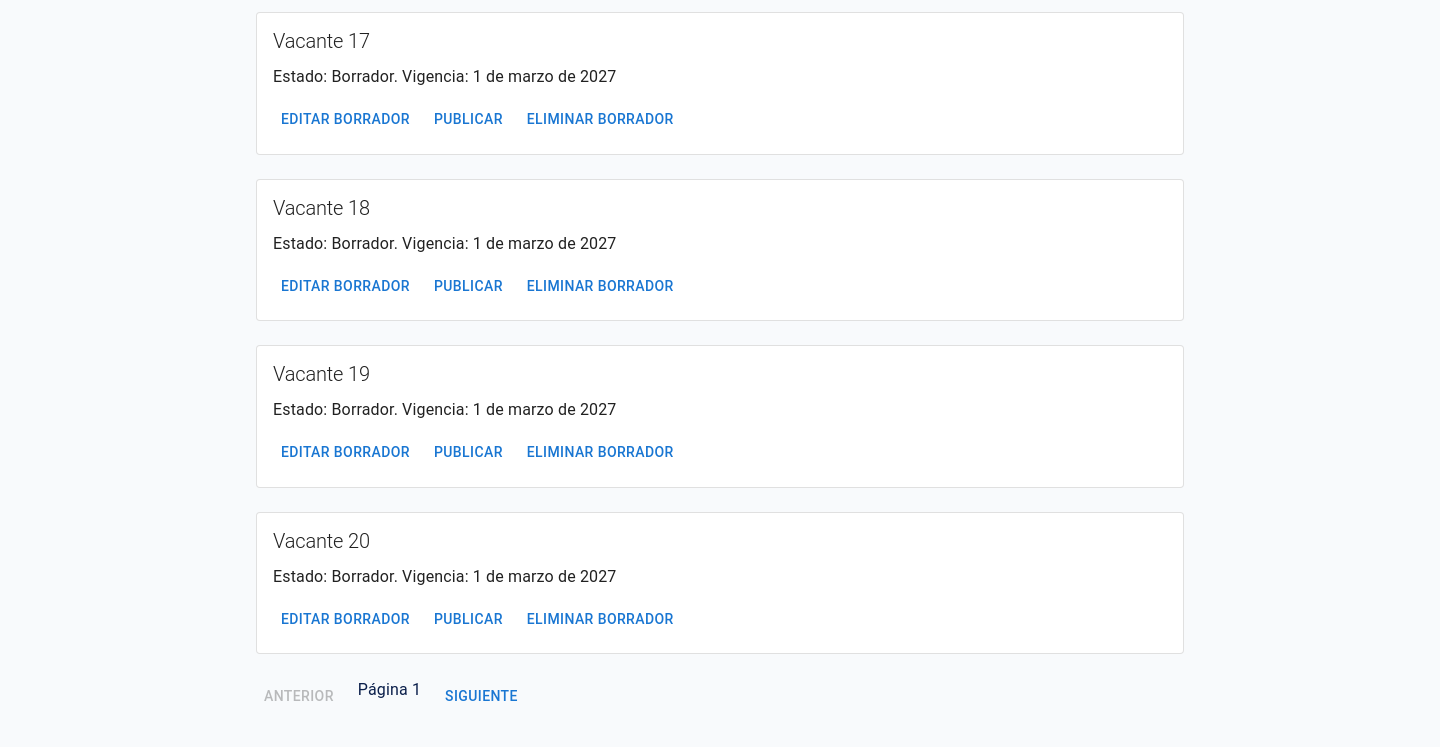
Scenario: MisVacantes › eliminar en una página que sigue teniendo vacantes se queda en ella
(page scrolled)
Click the button "Siguiente".
click(481, 696)  # box [437,678,526,715]
(page scrolled)
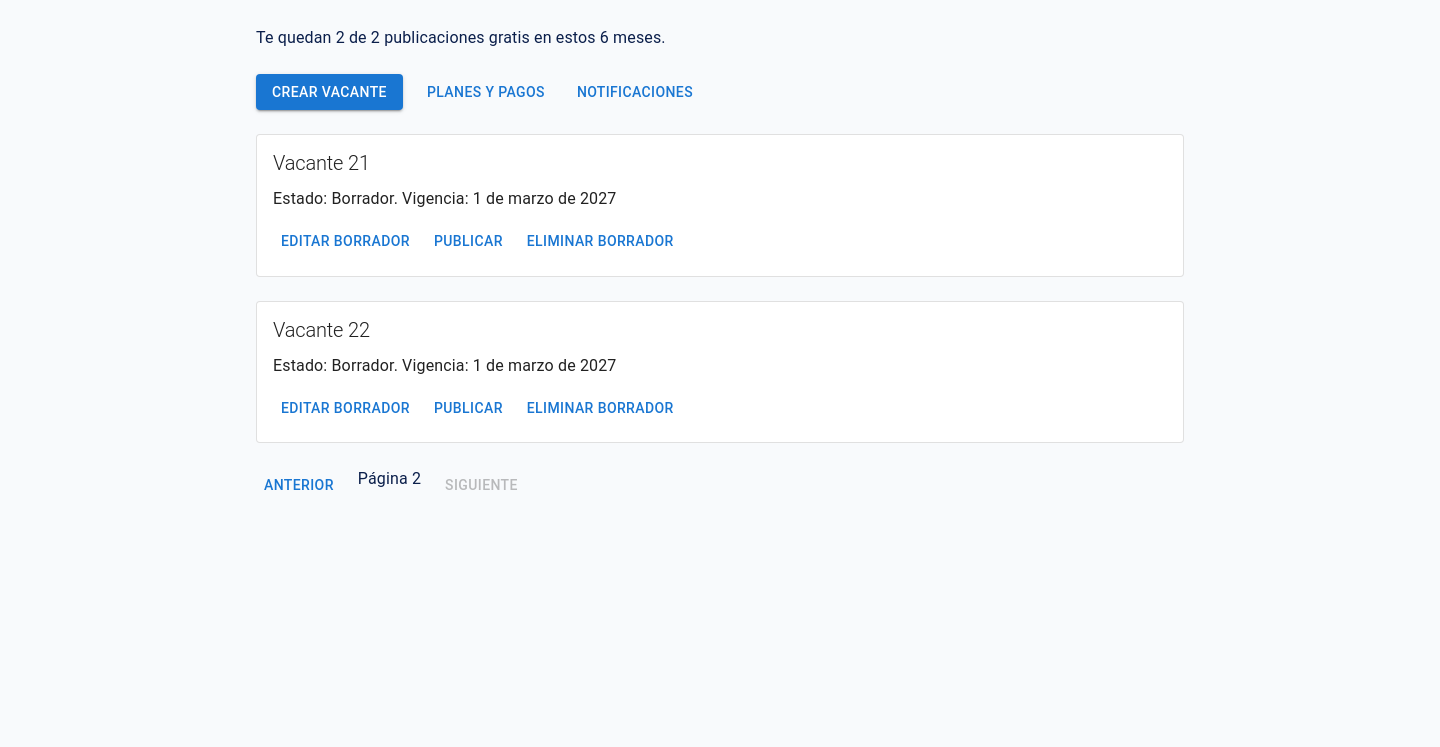
Click the button "Eliminar borrador" below "Vacante 21".
click(600, 241)  # box [519,223,682,260]
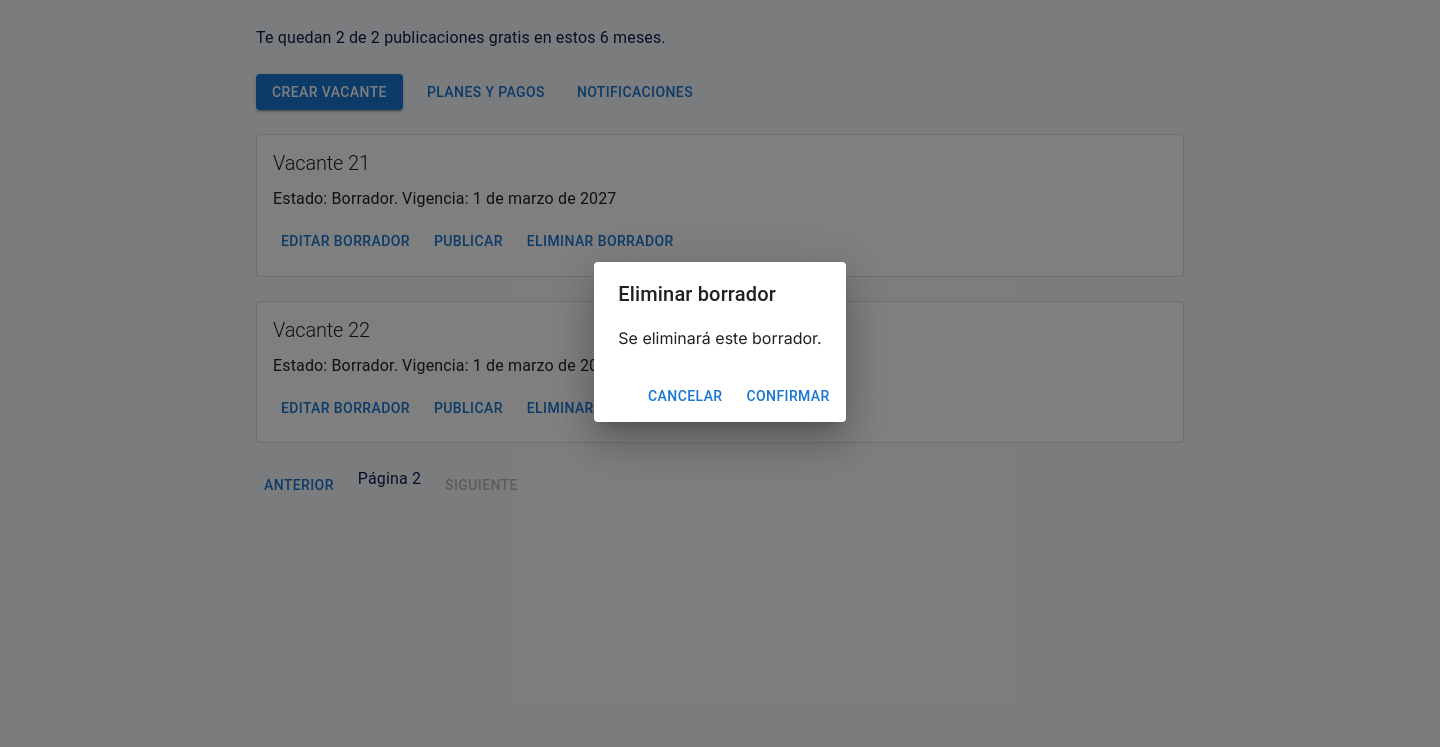
Click the button "Confirmar".
click(788, 396)  # box [738,378,838,414]
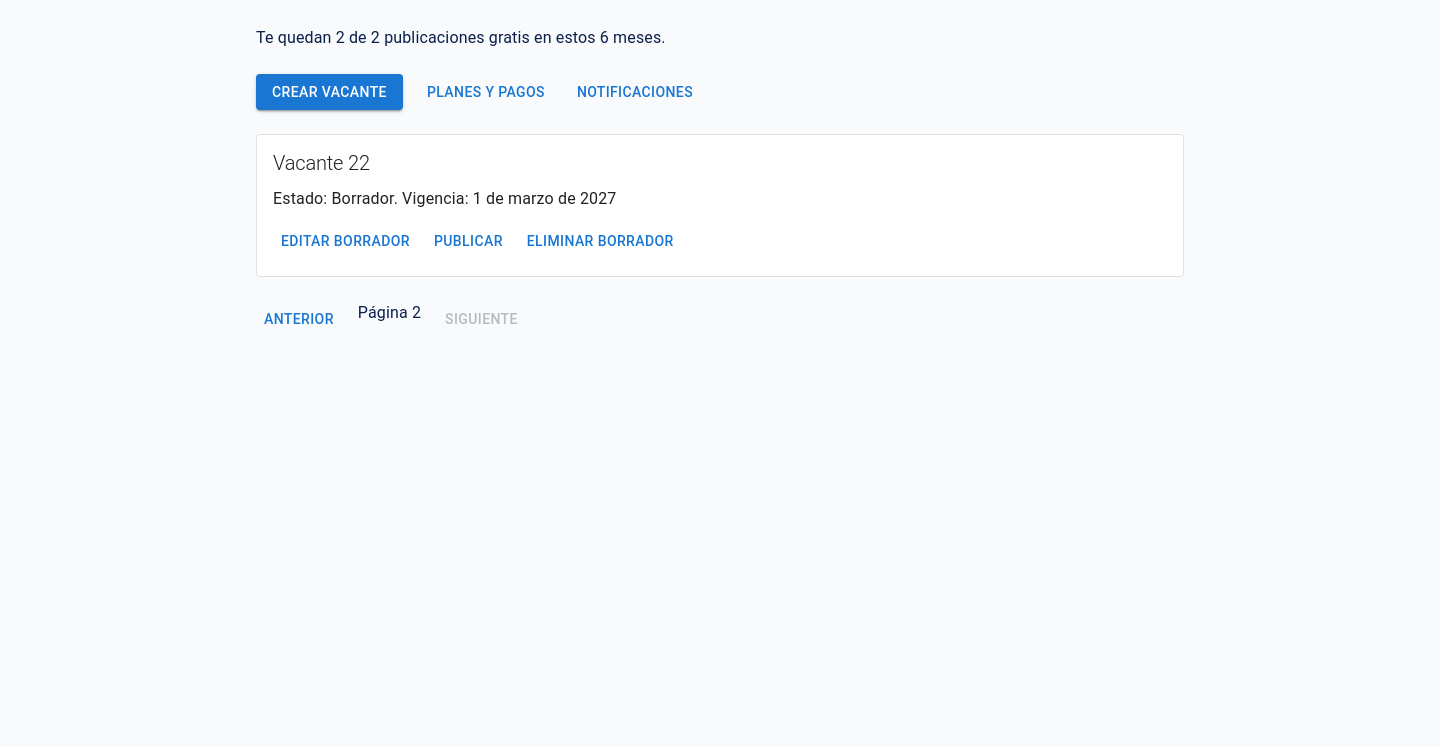
Check: the heading "Vacante 22" is shown, box [273,151,370,175]
Check: the dialog is gone
Check: the heading "Vacante 21" is gone
